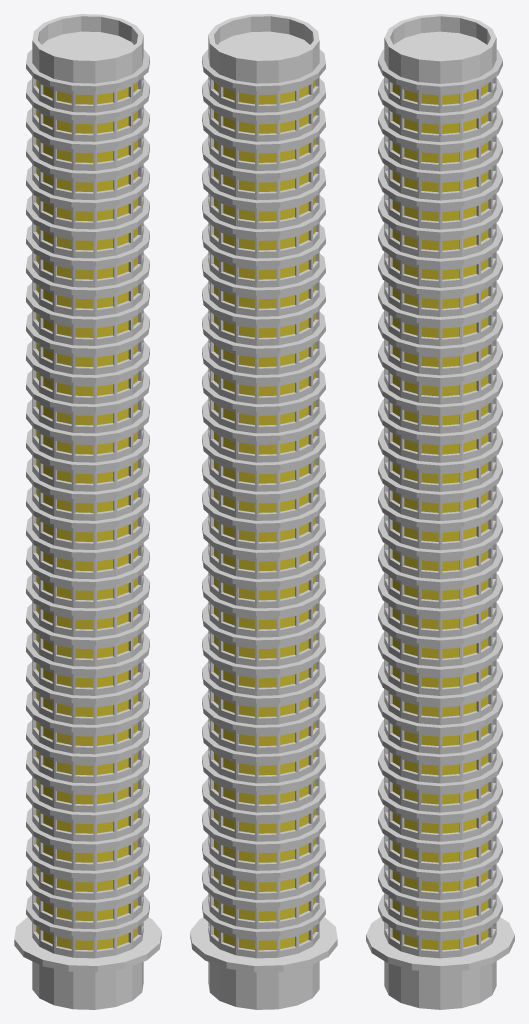
Rendered from SkyScrapersROUND.dae.
The picture shows the model from 3 angles, left to right: view 1: azimuth 30°, elevation 25°; view 2: azimuth 150°, elevation 25°; view 3: azimuth 270°, elevation 25°; orthographic projection.
Parts seen in each view (by area): view 1: Kreis.001, Kreis, Kreis.002; view 2: Kreis.001, Kreis, Kreis.002; view 3: Kreis.001, Kreis, Kreis.002.
Boxes of the visible parts, <box> form: Kreis.001: <box>26,49,149,958</box>; Kreis: <box>14,917,161,1009</box>; Kreis.002: <box>32,14,143,83</box>; Kreis.001: <box>202,49,325,958</box>; Kreis: <box>190,917,337,1009</box>; Kreis.002: <box>208,14,319,83</box>; Kreis.001: <box>378,49,502,958</box>; Kreis: <box>366,917,514,1009</box>; Kreis.002: <box>384,14,496,83</box>.
Bounding box in the file's own units: 2.65 × 2.65 × 18.68.
